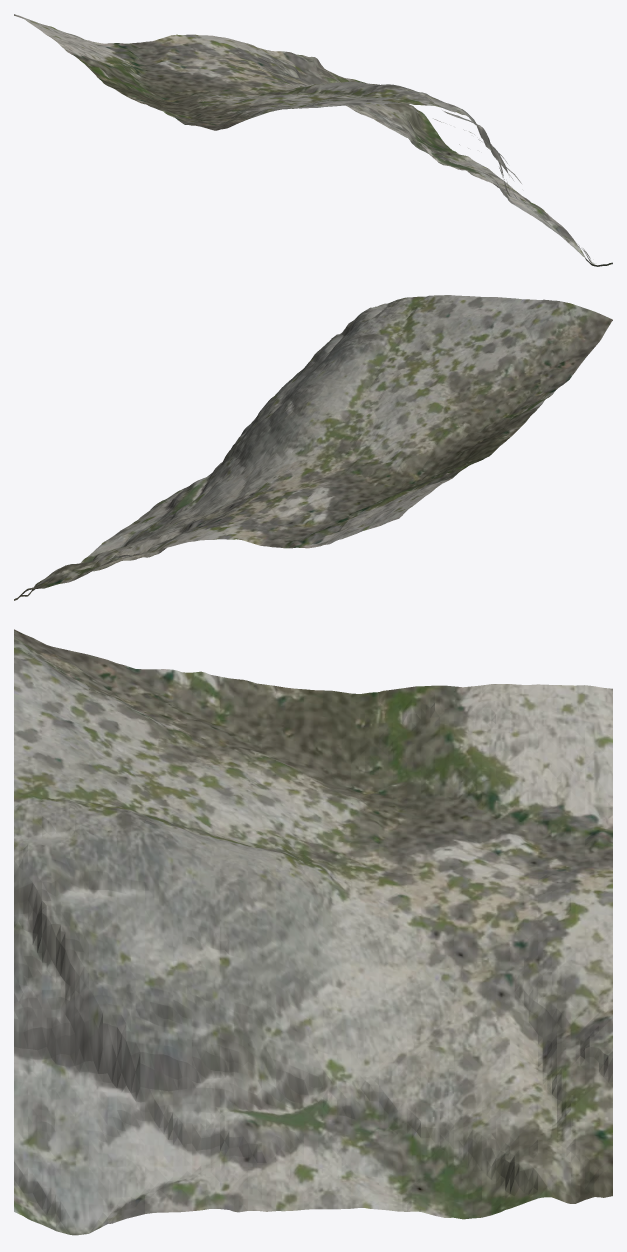
3 renders of one model, top to bottom at view 1: azimuth 30°, elevation 25°; view 2: azimuth 150°, elevation 25°; view 3: azimuth 270°, elevation 25°, orthographic. The views are drawn at different scales.
Size of the model in its own units: 250 by 157 by 241.
1 material, 1 textured.
